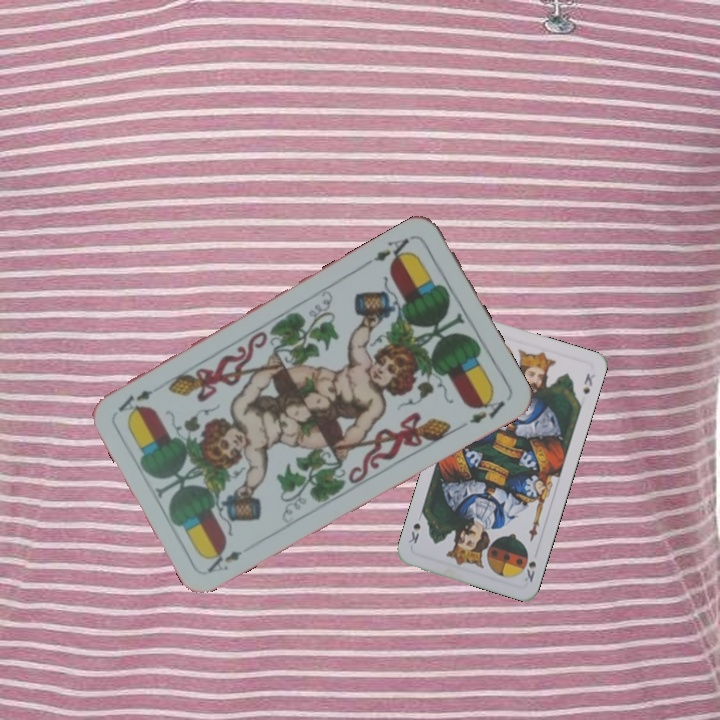EA: (362, 232, 417, 268), (203, 543, 245, 575)
SK: (519, 557, 539, 585)
